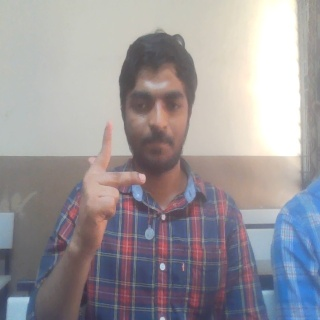Okay: (74, 120, 147, 254)
